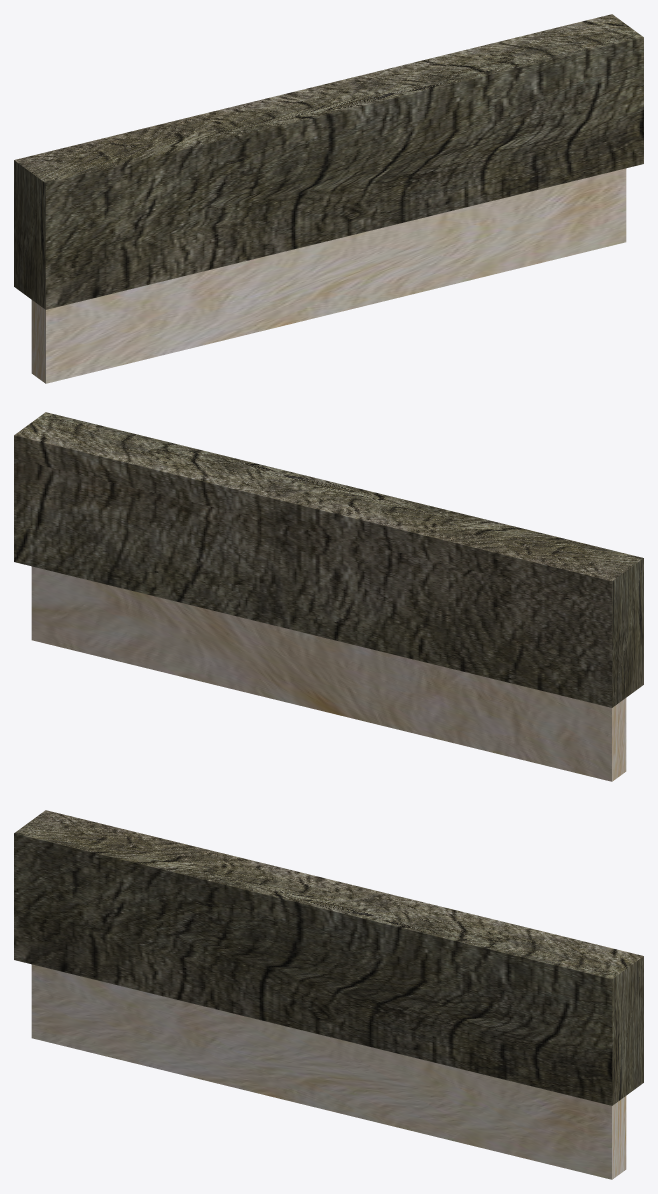
Rendered from blendergltfBrush.gltf.
3 views of the same model, one above another, from view 1: azimuth 30°, elevation 25°; view 2: azimuth 150°, elevation 25°; view 3: azimuth 330°, elevation 25° (orthographic).
Visible parts, largest first — view 1: pCube2, pCube3; view 2: pCube2, pCube3; view 3: pCube2, pCube3.
Part boxes in pixels (left/top/right/bottom): pCube2: left=14, top=14, right=643, bottom=309; pCube3: left=31, top=168, right=626, bottom=383; pCube2: left=14, top=412, right=643, bottom=707; pCube3: left=31, top=566, right=626, bottom=781; pCube2: left=14, top=810, right=643, bottom=1105; pCube3: left=31, top=964, right=626, bottom=1179.
Bounding box in the file's own units: 0.1696 × 0.0567 × 0.0156.
Materials: 2 (2 with a texture image).
